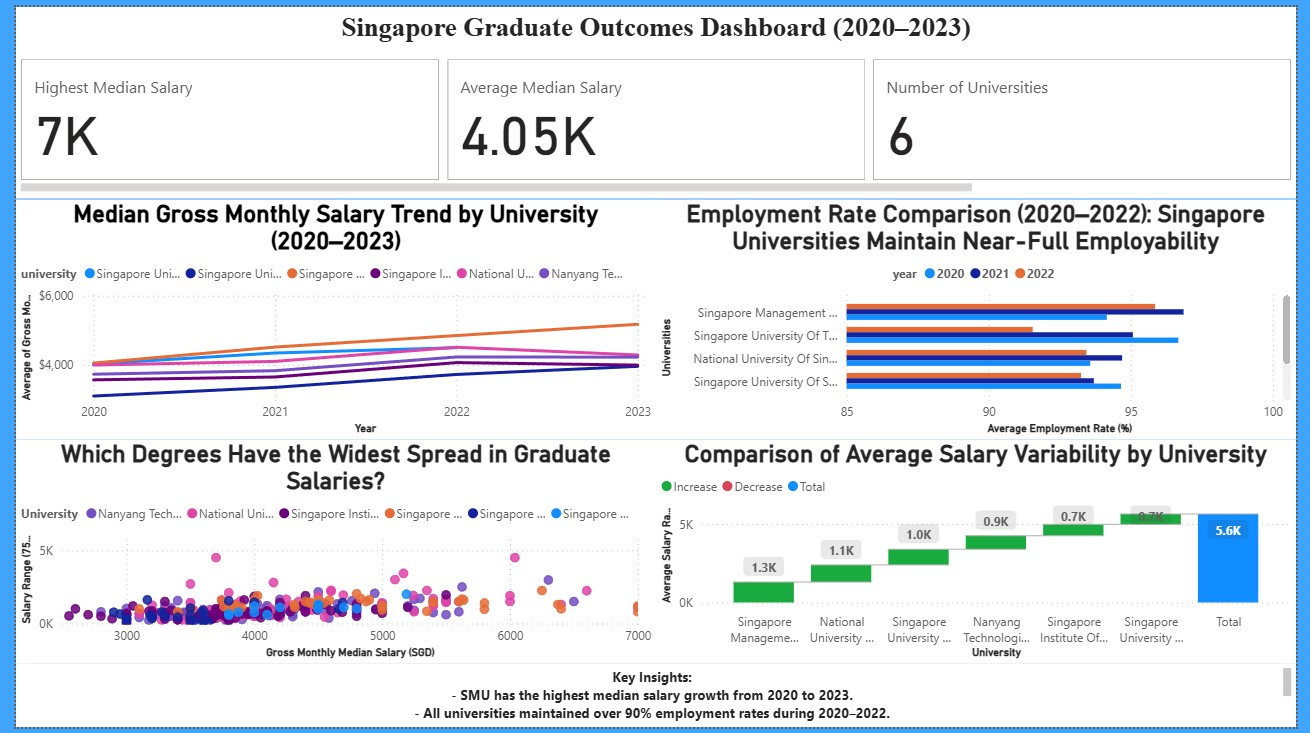

Layout of this report page (visuals, bound fields, positions):
{"tool":"powerbi","page":{"name":"Overview Dashboard","canvas":[1280,720],"ordinal":4},"visuals":[{"type":"textbox","box":[0,0,1280,48],"z":0},{"type":"cardVisual","fields":{"Data":["Max(GraduateEmploymentSurvey_Cleaned_Last4Years (2).gross_monthly_median)","Avg(GraduateEmploymentSurvey_Cleaned_Last4Years (2).gross_monthly_median)1","Count(GraduateEmploymentSurvey_Cleaned_Last4Years (2).university)","Max(GraduateEmploymentSurvey_Cleaned_Last4Years (2).employment_rate_overall)"]},"box":[0,48,1280,144],"z":1000},{"type":"lineChart","title":"Median Gross Monthly Salary Trend by University (2020–2023)","fields":{"Y":["Avg(GraduateEmploymentSurvey_Cleaned_Last4Years (2).gross_monthly_median)"],"Category":["GraduateEmploymentSurvey_Cleaned_Last4Years (2).year"],"Series":["GraduateEmploymentSurvey_Cleaned_Last4Years (2).university"]},"box":[0,192,640,240],"z":2000},{"type":"clusteredBarChart","title":"Employment Rate Comparison (2020–2022): Singapore Universities Maintain Near-Full Employability","fields":{"Y":["Avg(GraduateEmploymentSurvey_Cleaned_Last4Years (2).employment_rate_overall)"],"Category":["GraduateEmploymentSurvey_Cleaned_Last4Years (2).university"],"Series":["GraduateEmploymentSurvey_Cleaned_Last4Years (2).year"]},"box":[640,192,640,240],"z":3000},{"type":"scatterChart","title":"Which Degrees Have the Widest Spread in Graduate Salaries?","fields":{"X":["GraduateEmploymentSurvey_Cleaned_Last4Years (2).gross_monthly_median"],"Y":["GraduateEmploymentSurvey_Cleaned_Last4Years (2).salary_range"],"Series":["GraduateEmploymentSurvey_Cleaned_Last4Years (2).university"]},"box":[0,432,640,224],"z":4000},{"type":"waterfallChart","title":"Comparison of Average Salary Variability by University","fields":{"Category":["GraduateEmploymentSurvey_Cleaned_Last4Years (2).degree","GraduateEmploymentSurvey_Cleaned_Last4Years (2).university"],"Y":["Avg(GraduateEmploymentSurvey_Cleaned_Last4Years (2).salary_range)"]},"box":[640,432,640,224],"z":5000},{"type":"textbox","box":[0,656,1280,64],"z":6000}]}

Visuals, with their boxes in screenshot pixels (x1, y1, x2, y2), scaled from the page's 1280x720 canvas onto the 1310x733 screenshot:
textbox: detection(0, 0, 1309, 49)
cardVisual - Max(GraduateEmploymentSurvey_Cleaned_Last4Years (2).gross_monthly_median) x Avg(GraduateEmploymentSurvey_Cleaned_Last4Years (2).gross_monthly_median)1: detection(0, 49, 1309, 195)
"Median Gross Monthly Salary Trend by University (2020–2023)" lineChart: detection(0, 195, 655, 440)
"Employment Rate Comparison (2020–2022): Singapore Universities Maintain Near-Full Employability" clusteredBarChart: detection(655, 195, 1309, 440)
"Which Degrees Have the Widest Spread in Graduate Salaries?" scatterChart: detection(0, 440, 655, 668)
"Comparison of Average Salary Variability by University" waterfallChart: detection(655, 440, 1309, 668)
textbox: detection(0, 668, 1309, 732)
